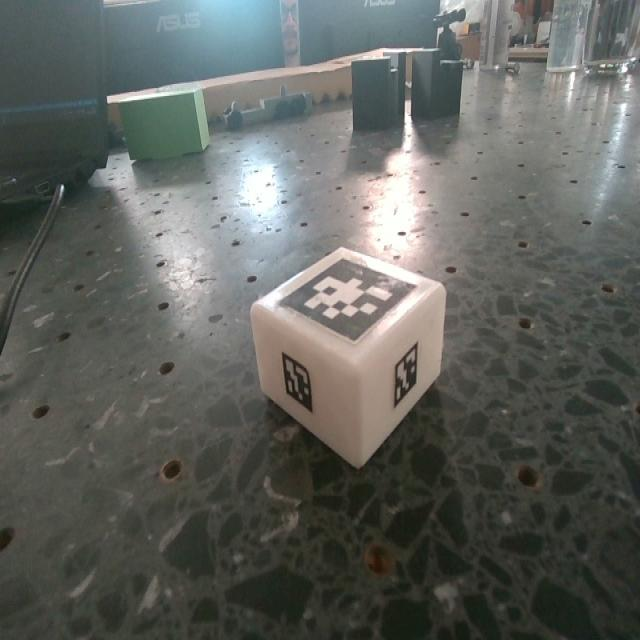Cube: (250, 249, 447, 471)
